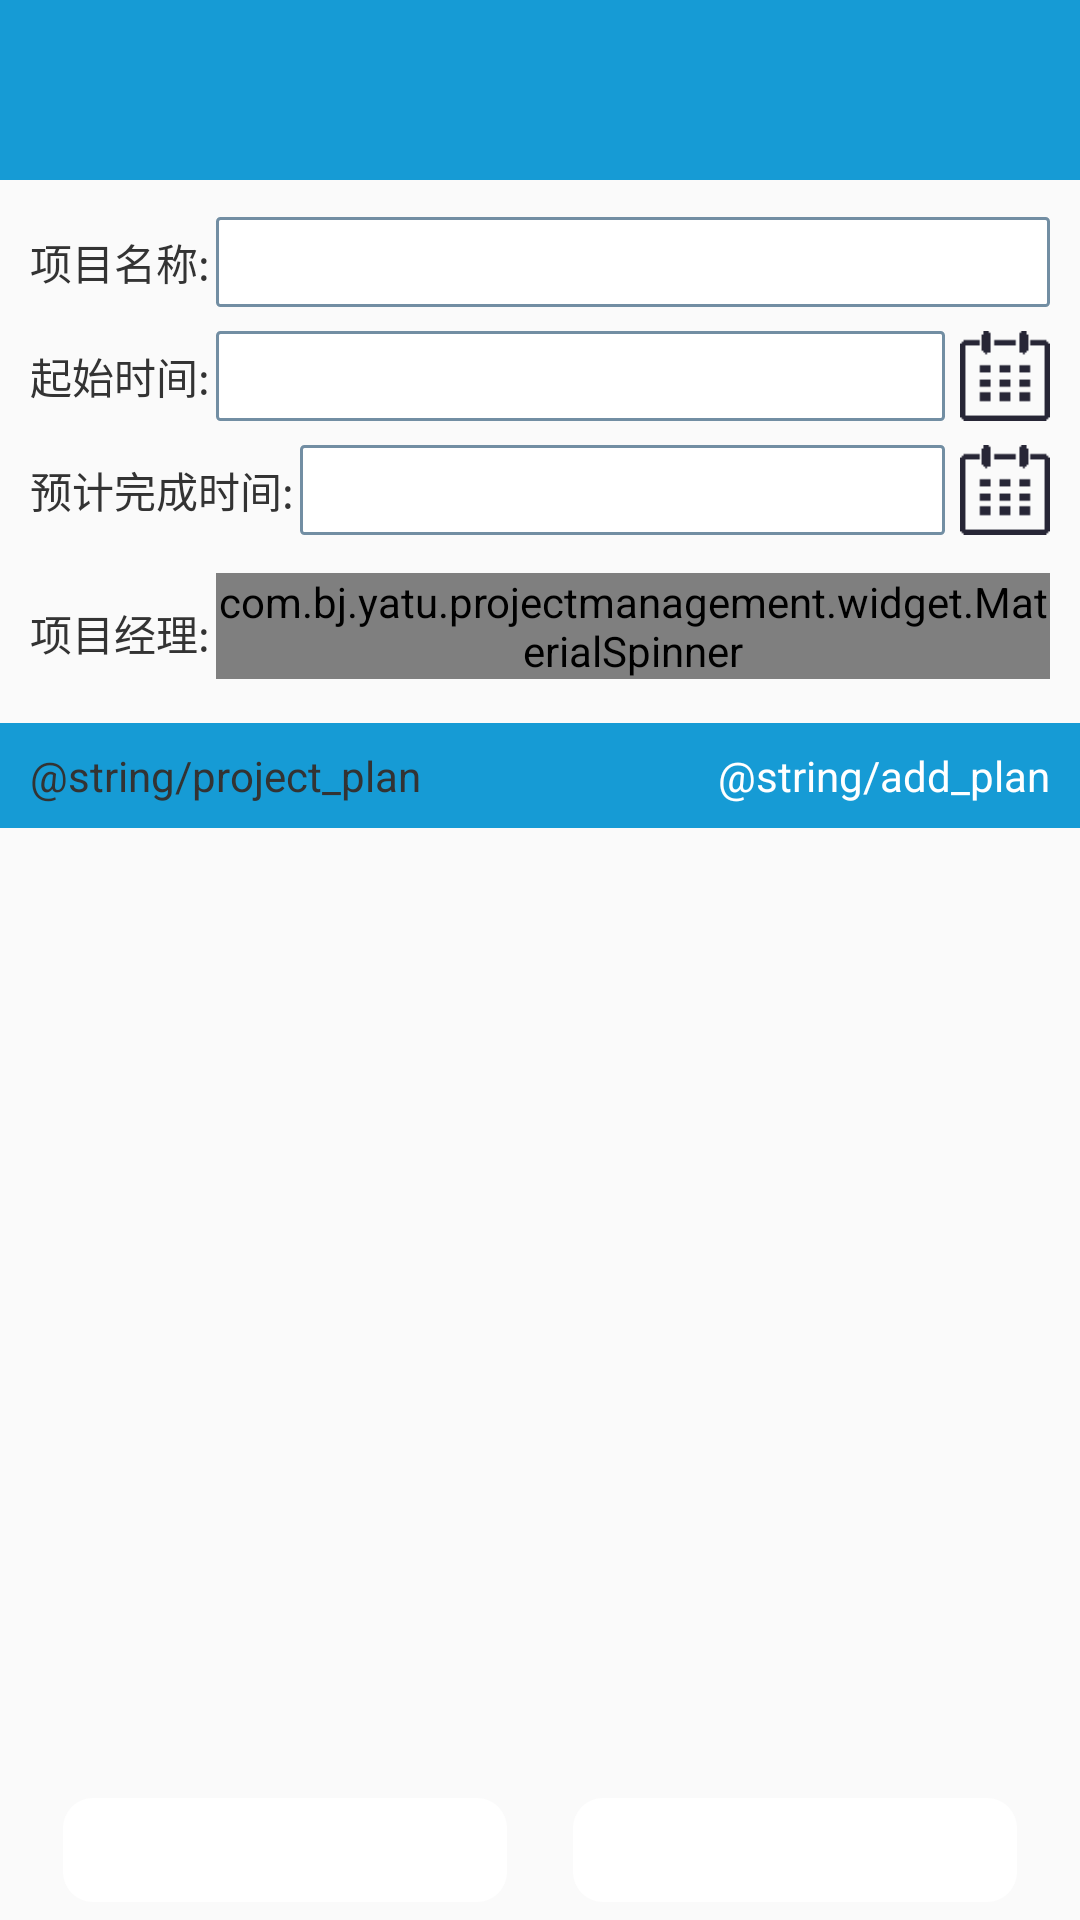

Icon bounding boxes for this 1080 × 1920 phone screenshot, format (x1, y1, x2, y2):
canlendar: (960, 331, 1050, 421), (960, 445, 1050, 535)
